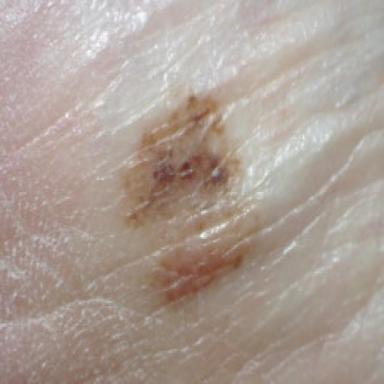Melanoma: (125, 97, 259, 299)
